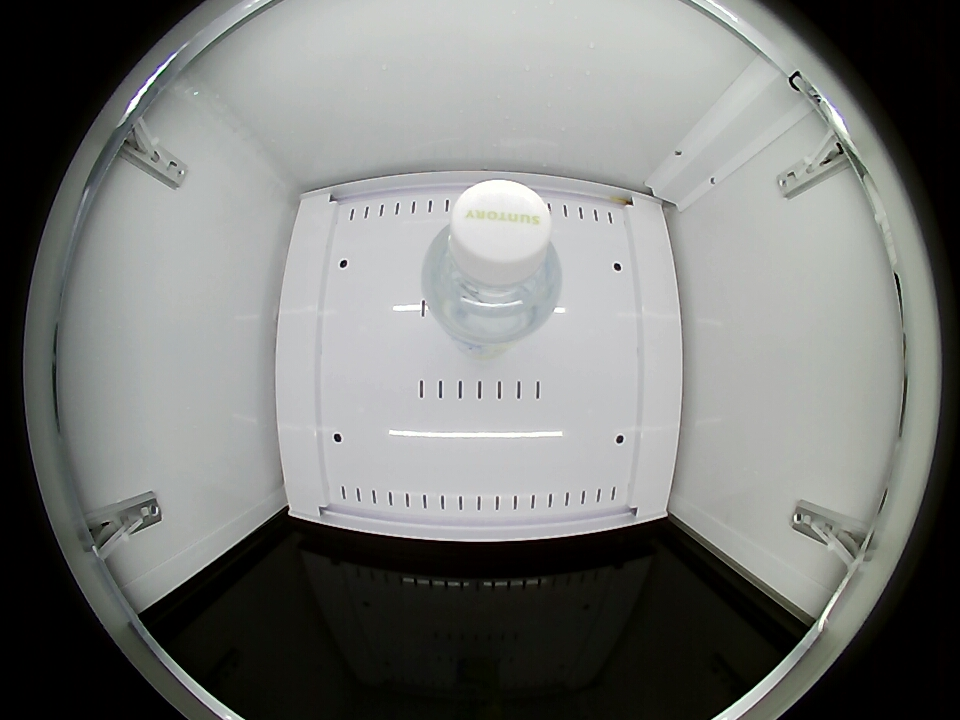qinningshui: (423, 179, 562, 341)
